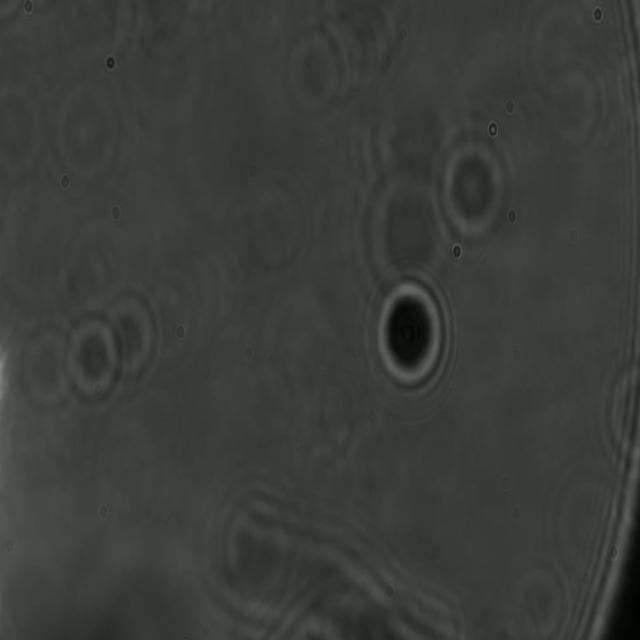DCELL: (369, 266, 453, 404)
